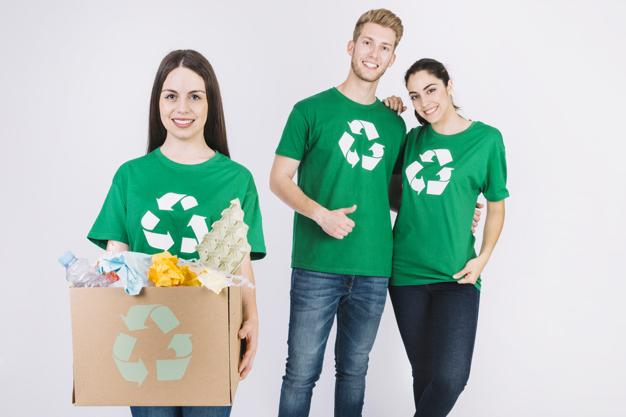thumbsup: (331, 205, 358, 239)
